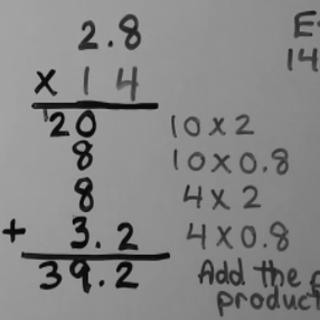.: (105, 37, 116, 49), (96, 276, 106, 288), (93, 238, 103, 249), (260, 164, 269, 174), (261, 239, 269, 249)
0: (74, 109, 100, 139), (182, 114, 204, 140), (236, 151, 259, 174), (239, 223, 258, 250), (186, 150, 207, 173)
1: (80, 64, 95, 96), (170, 146, 182, 171), (168, 112, 179, 139)
2: (115, 218, 142, 252), (76, 17, 101, 51), (115, 260, 141, 289), (48, 108, 71, 139), (232, 112, 258, 138), (239, 183, 264, 209)
3: (36, 259, 64, 290), (69, 214, 91, 250)
4: (114, 64, 143, 103), (184, 220, 209, 249), (181, 181, 205, 211)
8: (117, 11, 145, 51), (73, 174, 97, 212), (71, 138, 97, 172), (270, 145, 292, 177), (269, 220, 291, 252)
9: (68, 257, 93, 294)
